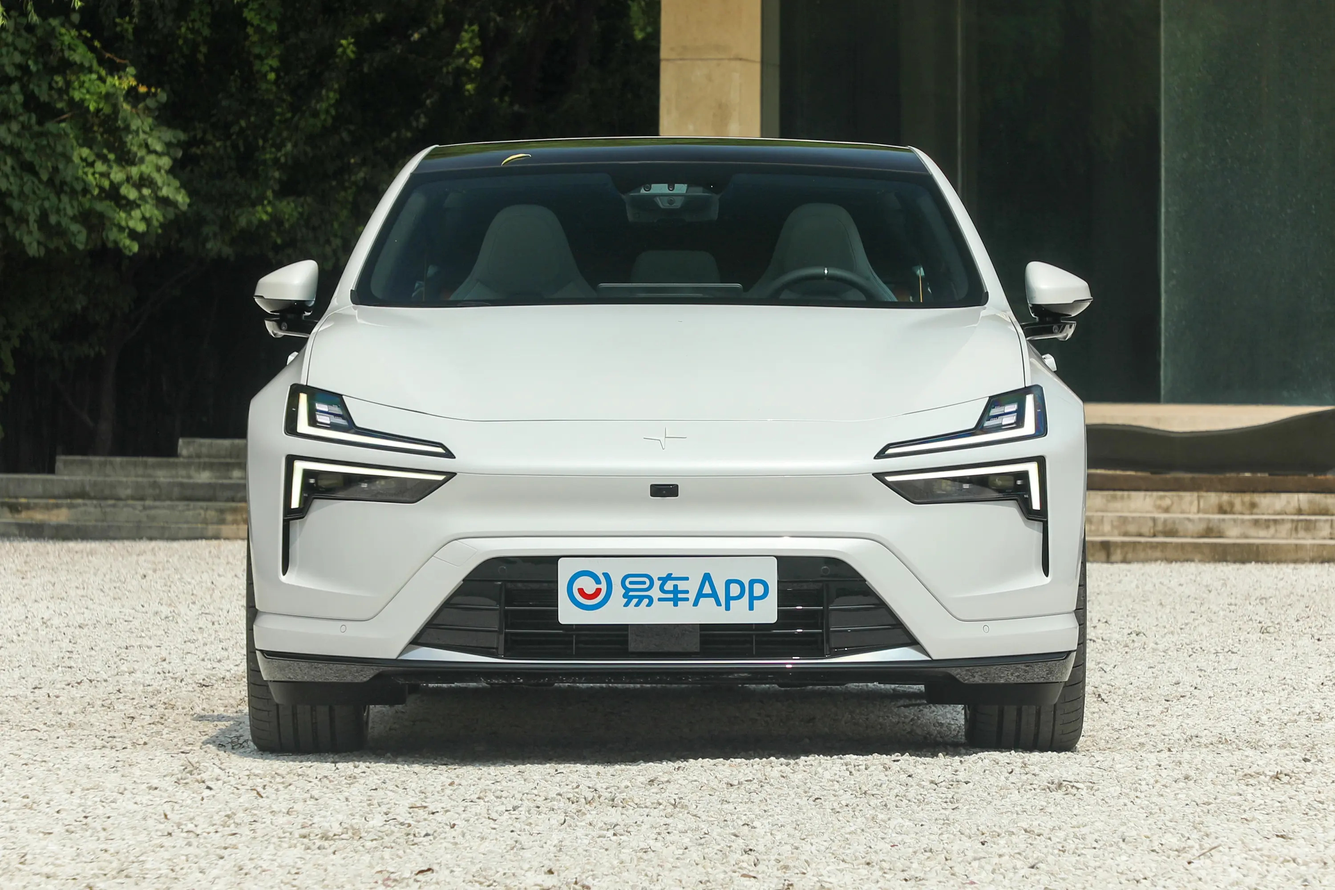Polestar: (643, 427, 687, 449)
